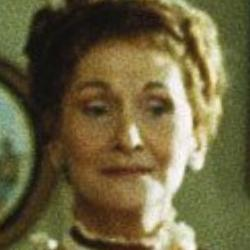face: (17, 7, 226, 212)
